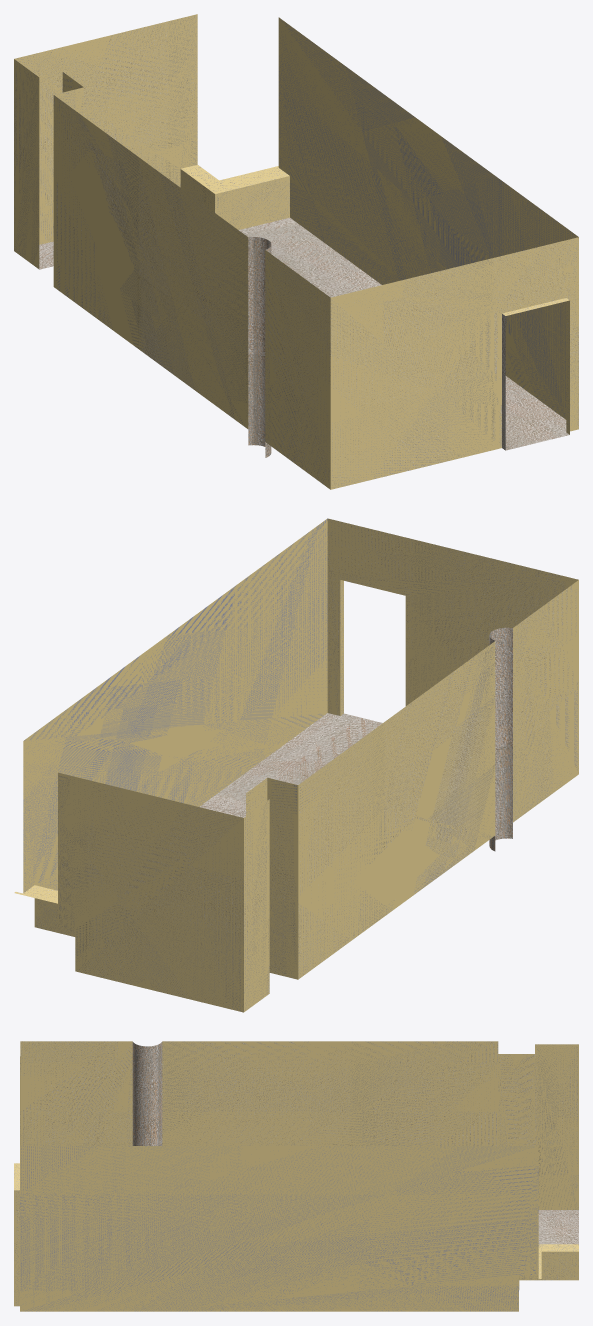
The model's file is AUL028.obj.
3 renders of one model, top to bottom at view 1: azimuth 30°, elevation 25°; view 2: azimuth 150°, elevation 25°; view 3: azimuth 270°, elevation 25°, orthographic. The views are drawn at different scales.
Parts seen in each view (by area): view 1: Mesh1 DES028 Model; view 2: Mesh1 DES028 Model; view 3: Mesh1 DES028 Model.
Boxes of the visible parts, x1,y1,x2,y2 form: Mesh1 DES028 Model: (14, 14, 578, 489); Mesh1 DES028 Model: (14, 518, 578, 1012); Mesh1 DES028 Model: (14, 1041, 578, 1311).
Bounding box in the file's own units: 4.18 × 3.25 × 9.26.
5 materials, 2 textured.
